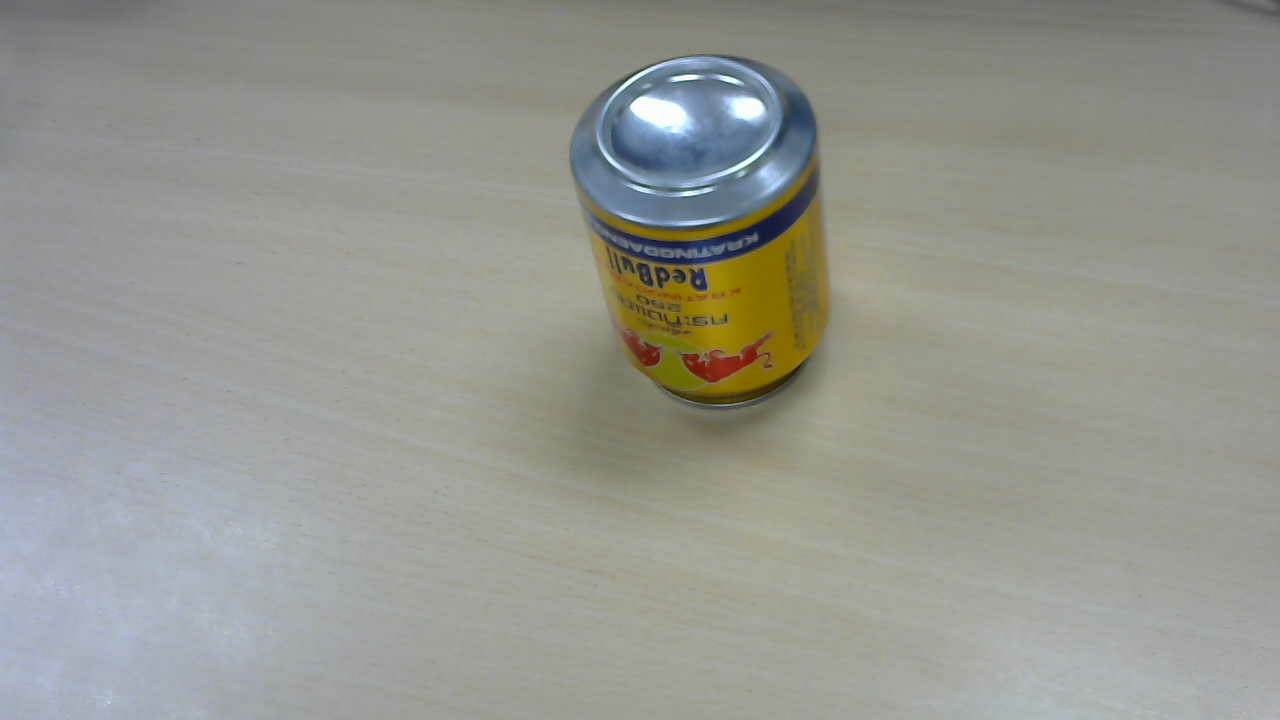Red_Bull: (562, 64, 860, 413)
